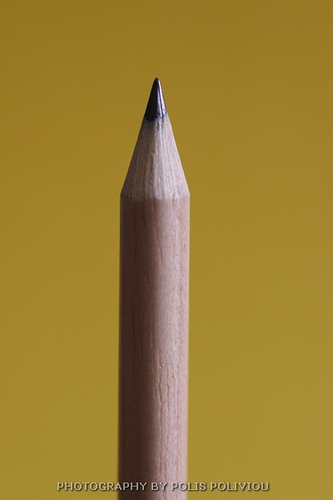pen_tip: (116, 70, 196, 241)
